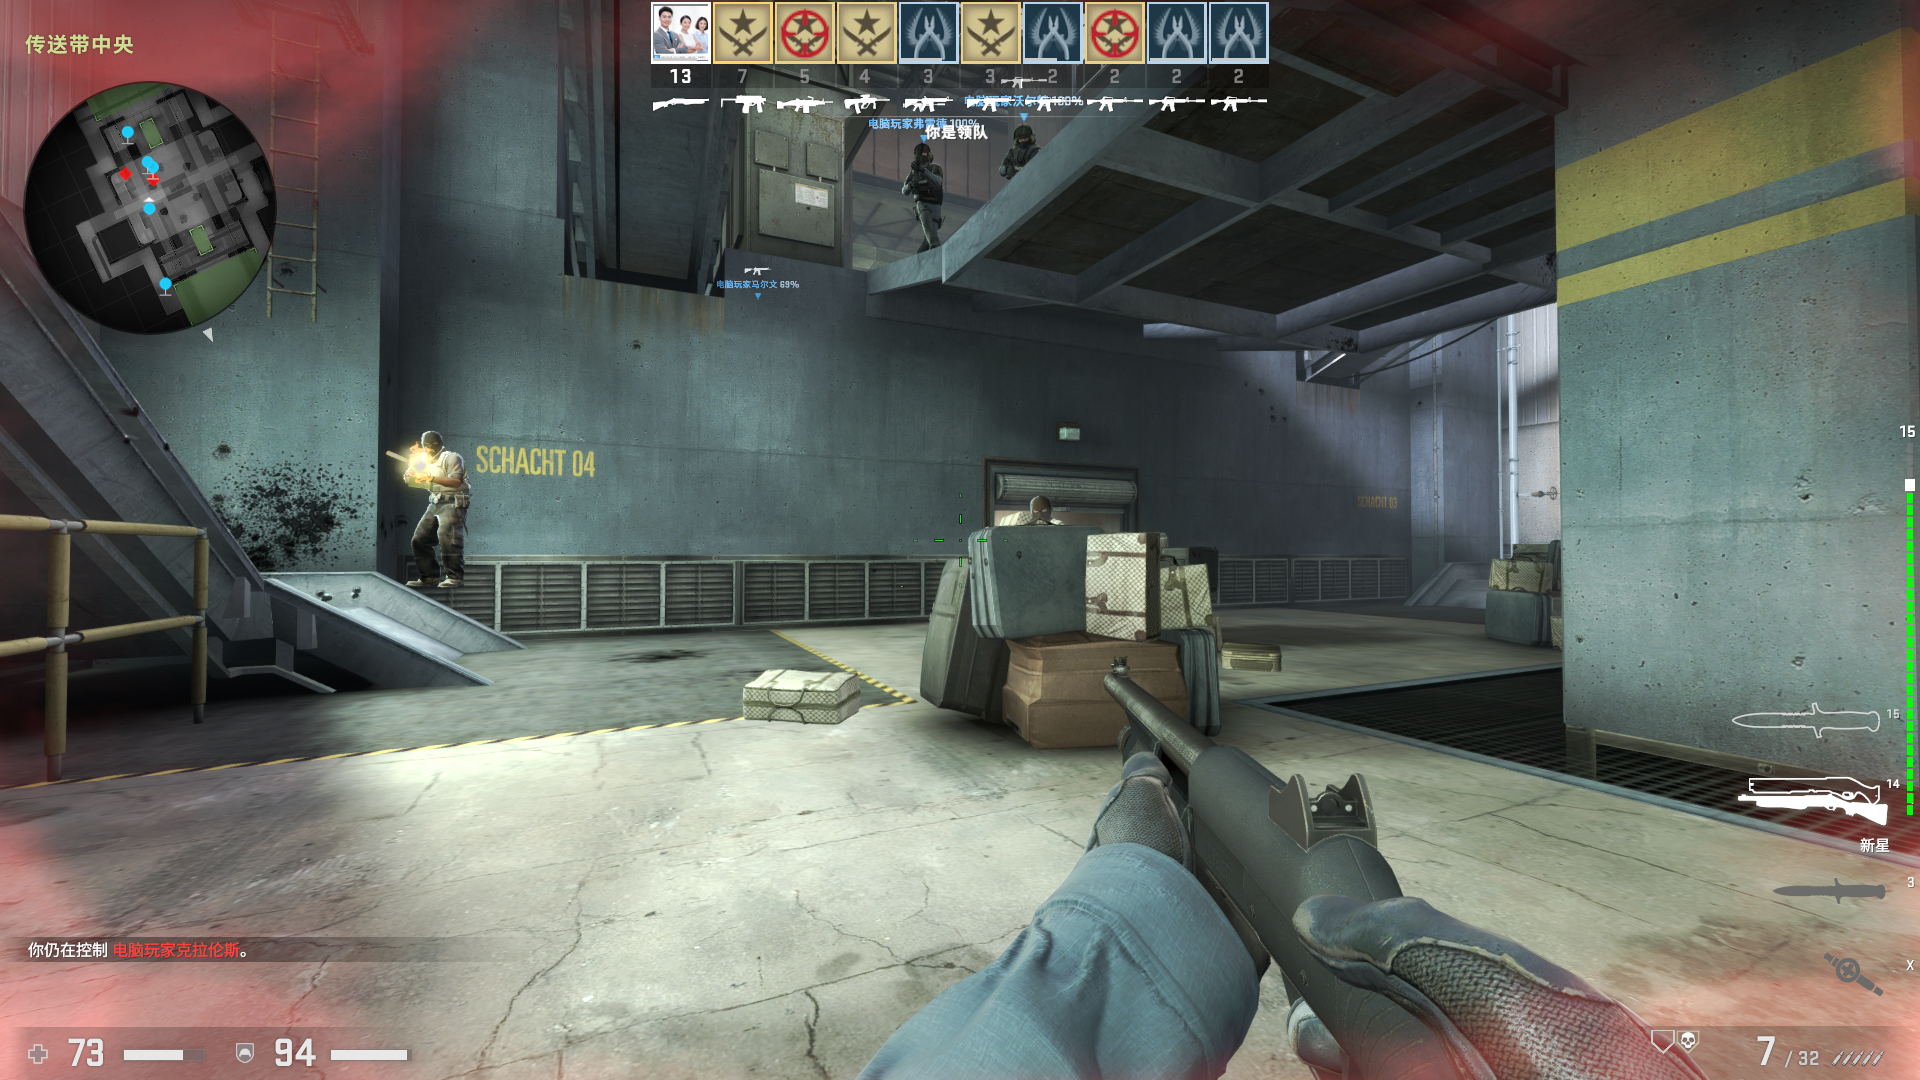person: (393, 431, 471, 594), (908, 144, 952, 255), (996, 124, 1040, 181), (1010, 491, 1064, 535)
